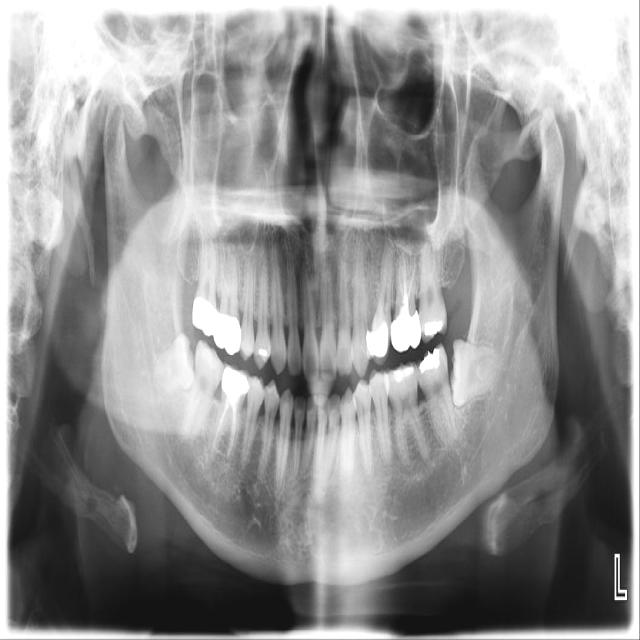Crown: (220, 361, 251, 409), (390, 310, 422, 352), (213, 312, 242, 356), (192, 296, 218, 337)
Filling: (365, 317, 392, 366), (416, 347, 443, 374), (392, 364, 416, 383), (420, 318, 443, 337), (254, 345, 269, 362)
Periapical lesion: (395, 442, 422, 475)
Root Canal Treatment: (216, 396, 232, 444), (229, 402, 238, 457), (407, 254, 417, 303), (403, 253, 408, 306), (398, 256, 404, 298)
impacted tooth: (451, 339, 503, 405), (152, 333, 192, 394)
